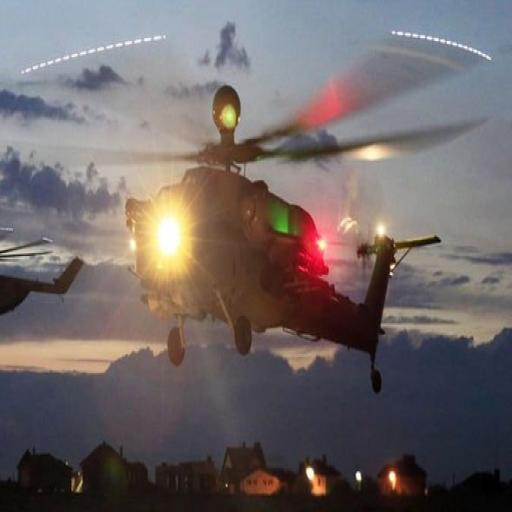helicopter: (106, 85, 444, 395)
